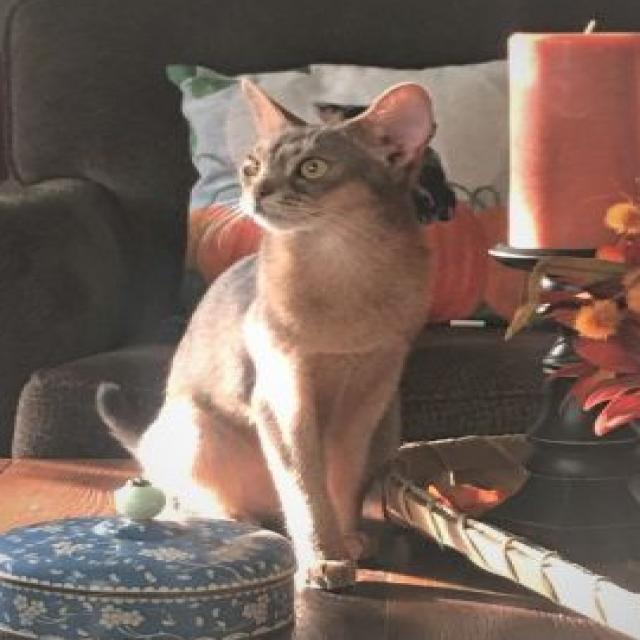Abyssinian: (97, 69, 461, 602)
